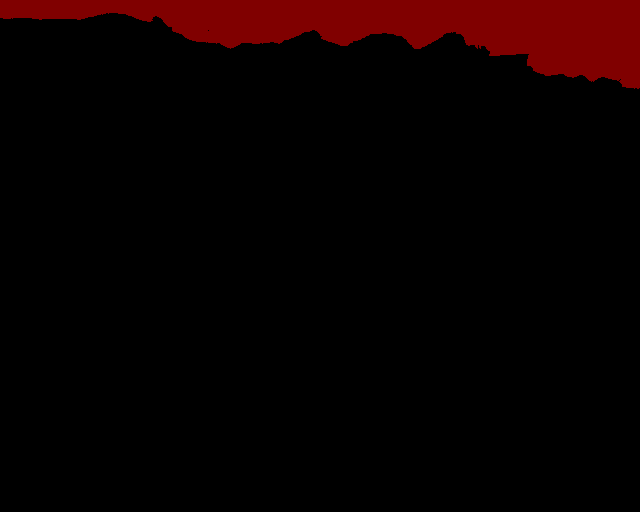Sky: (1, 1, 639, 89)
